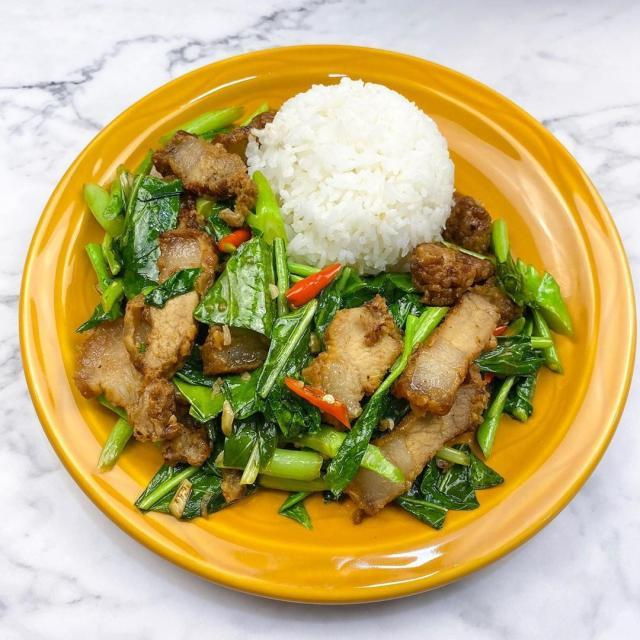cac loai rau cu: (323, 295, 454, 491), (144, 428, 304, 523), (389, 453, 521, 529), (211, 237, 299, 334), (478, 372, 556, 466), (65, 225, 139, 312), (80, 160, 160, 235), (514, 248, 577, 341), (304, 427, 395, 488), (474, 323, 554, 388), (184, 374, 276, 426), (266, 285, 322, 364), (92, 406, 143, 484), (240, 168, 291, 230), (283, 260, 356, 299)
com: (252, 82, 462, 261)
com chien cai xoan: (59, 76, 585, 523)
thit heo: (352, 383, 492, 520), (410, 292, 505, 415), (302, 297, 397, 411), (73, 329, 167, 436), (403, 252, 501, 311), (444, 177, 513, 253), (169, 128, 252, 190), (144, 282, 201, 370), (156, 222, 220, 285), (170, 427, 215, 462)
